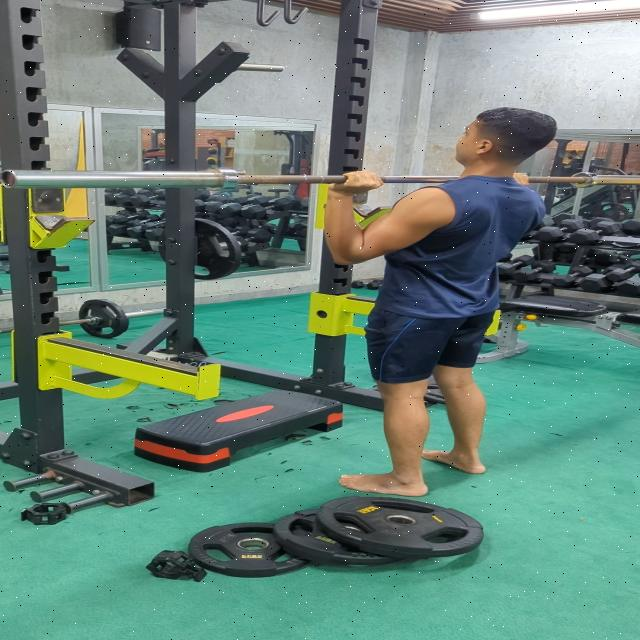Normal_OverheadPress: (290, 100, 566, 498)
